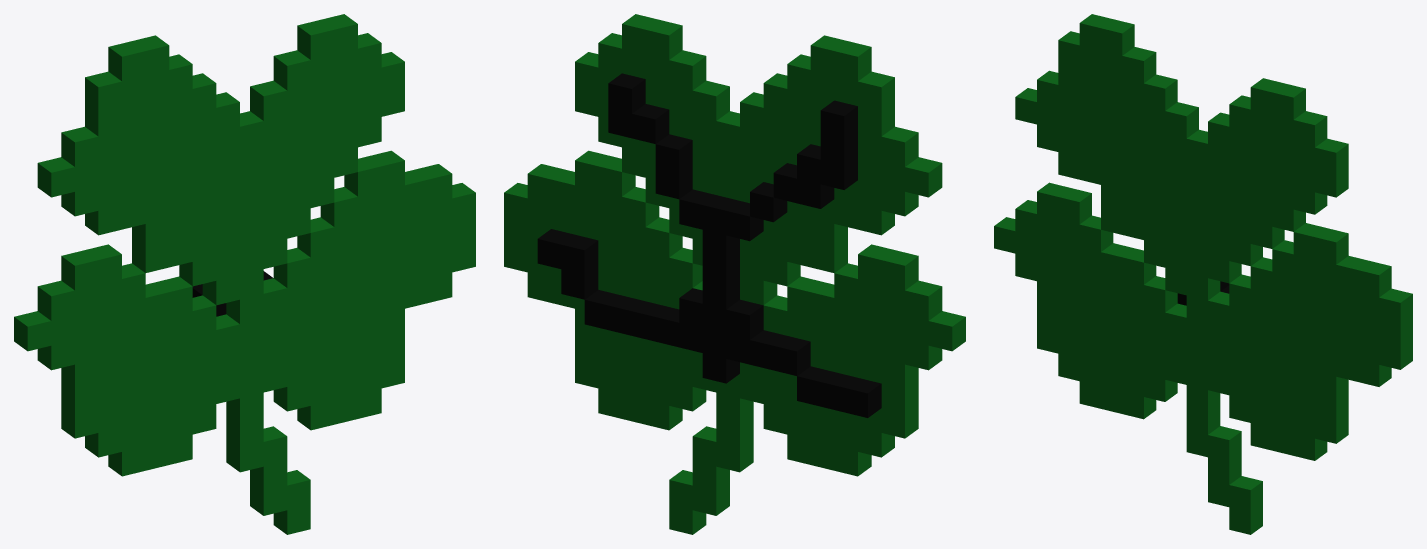
File: clover.glb
The picture shows the model from 3 angles, left to right: view 1: azimuth 30°, elevation 25°; view 2: azimuth 150°, elevation 25°; view 3: azimuth 330°, elevation 25°; orthographic projection. The views are drawn at different scales.
Parts seen in each view (by area): view 1: mesh (×210); view 2: mesh (×169); view 3: mesh (×210).
Part boxes in pixels (x1=…): mesh (×210): x1=14, y1=14, x2=475, y2=534; mesh (×169): x1=504, y1=14, x2=965, y2=534; mesh (×210): x1=994, y1=14, x2=1412, y2=534.
Size of the model in its own units: 1.19 by 1.31 by 0.125.
Materials: 2 (2 with a texture image).
